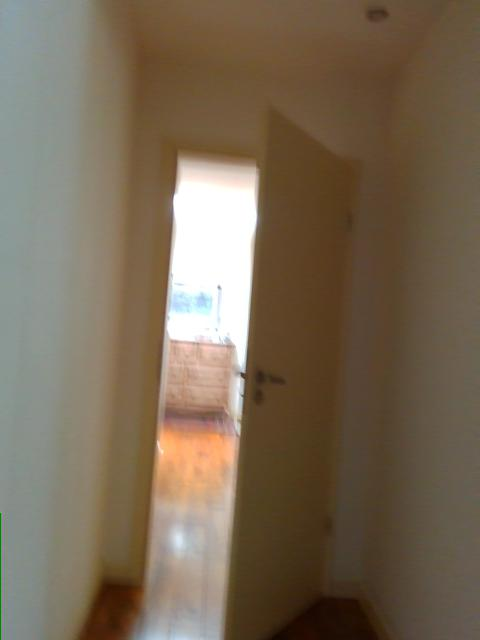semi_door: (128, 96, 359, 639)
